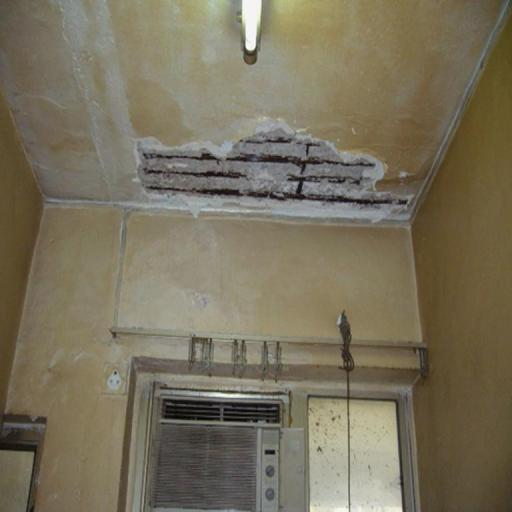spalling: (138, 125, 415, 221)
